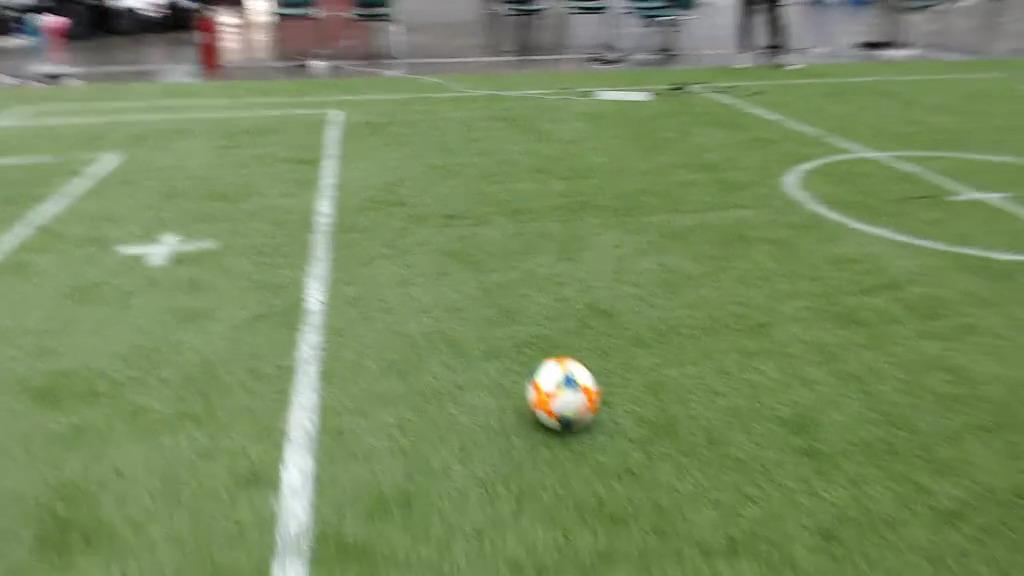ball: (527, 355, 602, 432)
